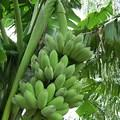banana: (18, 33, 93, 118), (29, 52, 85, 88), (19, 82, 72, 120), (36, 25, 92, 56)
